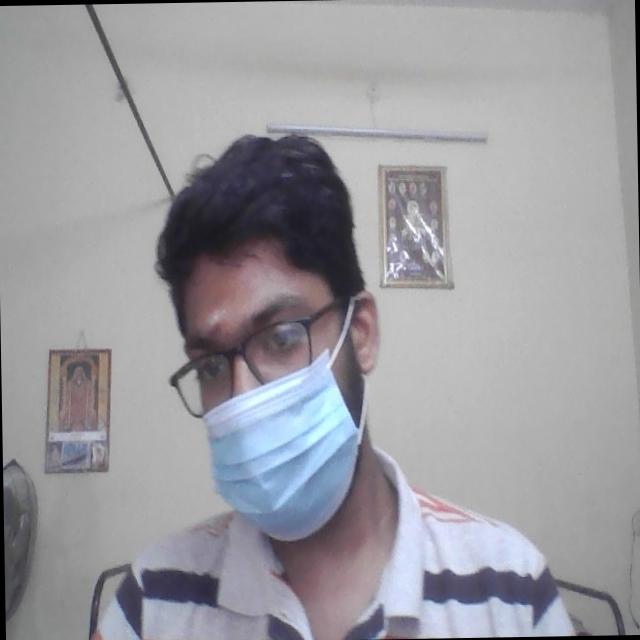Focused: (175, 261, 355, 520)
